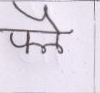au_matra: (40, 5, 66, 50)
